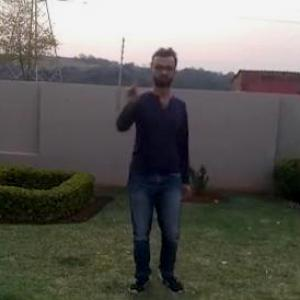land_hand: (119, 73, 151, 113)
